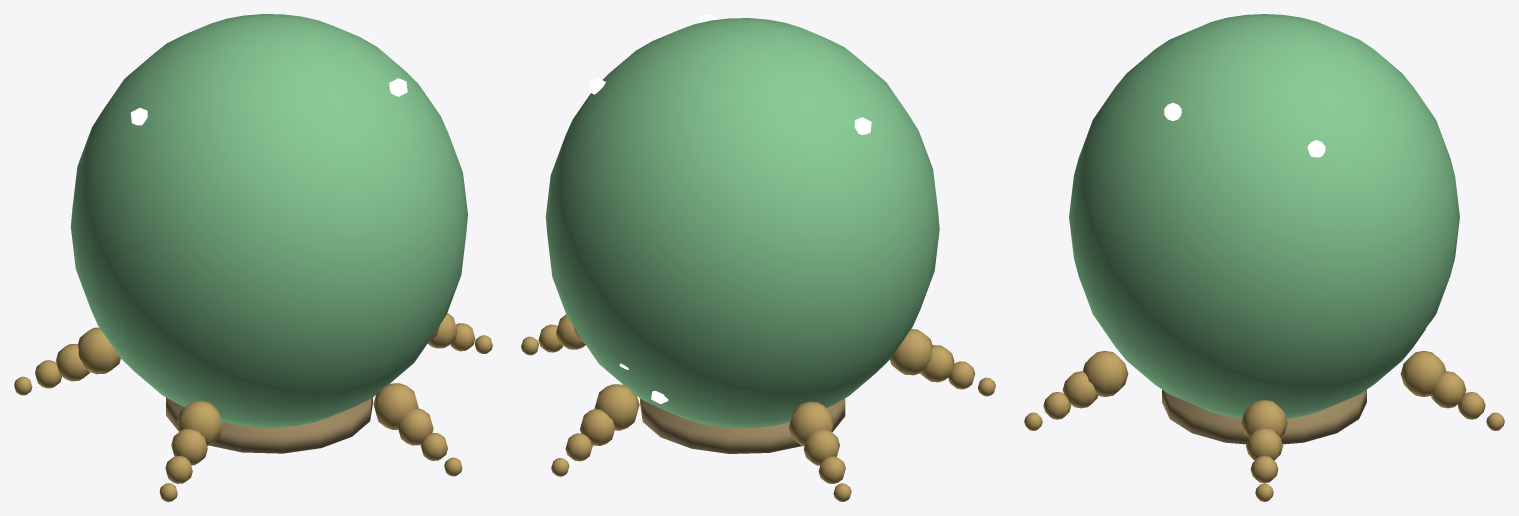
File: egg_forest_04.glb
The picture shows the model from 3 angles, left to right: view 1: azimuth 30°, elevation 25°; view 2: azimuth 150°, elevation 25°; view 3: azimuth 270°, elevation 25°; orthographic projection.
Visible parts, largest first — view 1: ball; view 2: ball; view 3: ball.
Boxes of the visible parts, x1,y1,x2,y2 form: ball: (14,14,492,501); ball: (521,14,995,501); ball: (1024,14,1504,501).
Bounding box in the file's own units: 0.9843 × 0.88 × 1.03.
